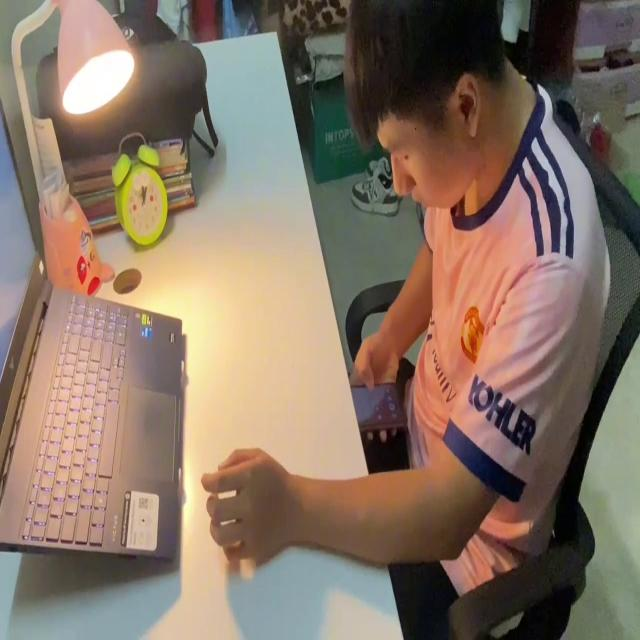laptop: (0, 95, 184, 564)
phone: (348, 376, 409, 430)
student: (198, 0, 613, 614)
